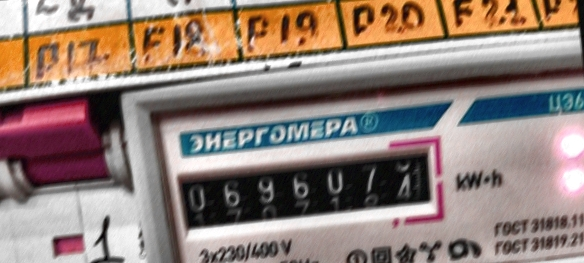0: (324, 163, 346, 195), (186, 182, 207, 211)
4: (394, 171, 413, 201)
6: (289, 169, 311, 200), (221, 177, 243, 207)
7: (360, 162, 380, 193)
9: (256, 174, 276, 204)
screen: (161, 128, 454, 248)
